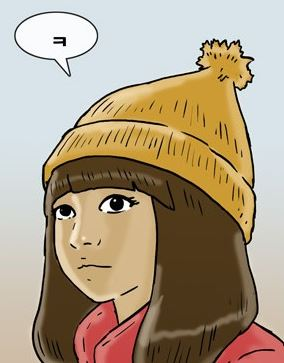hat: (41, 36, 268, 244)
